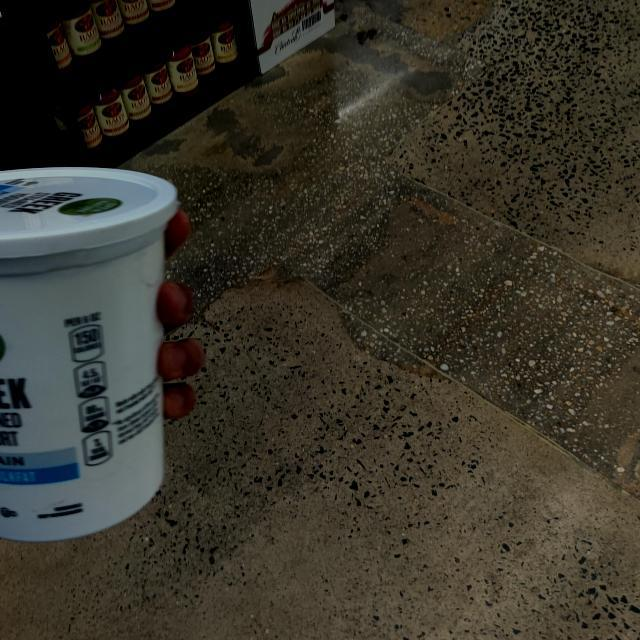Sauce: (58, 0, 104, 64), (36, 2, 74, 77), (90, 78, 132, 142), (114, 63, 154, 127), (164, 35, 200, 98), (138, 48, 173, 110), (184, 18, 216, 82), (208, 7, 239, 72), (86, 0, 128, 45), (145, 0, 175, 19)
Yoghurt: (0, 166, 184, 545)
